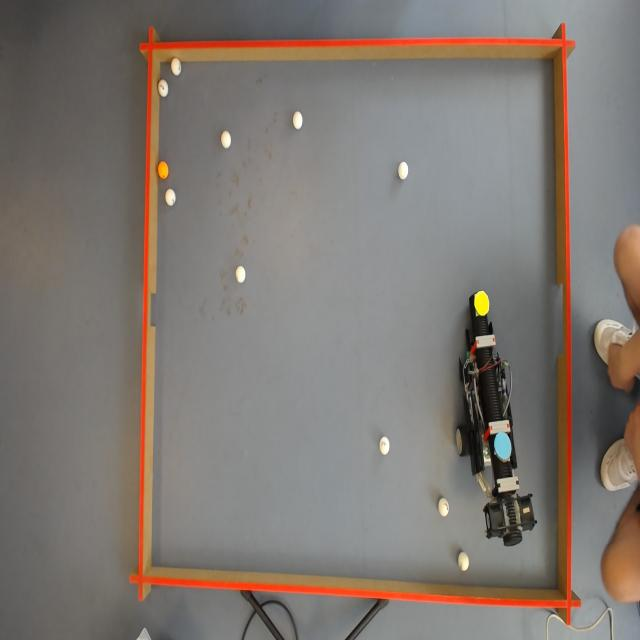orange: (158, 160, 170, 180)
robot: (458, 287, 534, 554)
robot-front: (475, 294, 491, 314)
robot-rear: (494, 424, 513, 466)
white: (456, 552, 471, 572), (398, 160, 410, 181), (292, 113, 305, 131), (438, 499, 450, 518), (221, 130, 234, 147), (164, 190, 176, 207), (157, 80, 169, 96), (170, 58, 182, 74), (236, 267, 247, 282), (380, 438, 390, 454)
